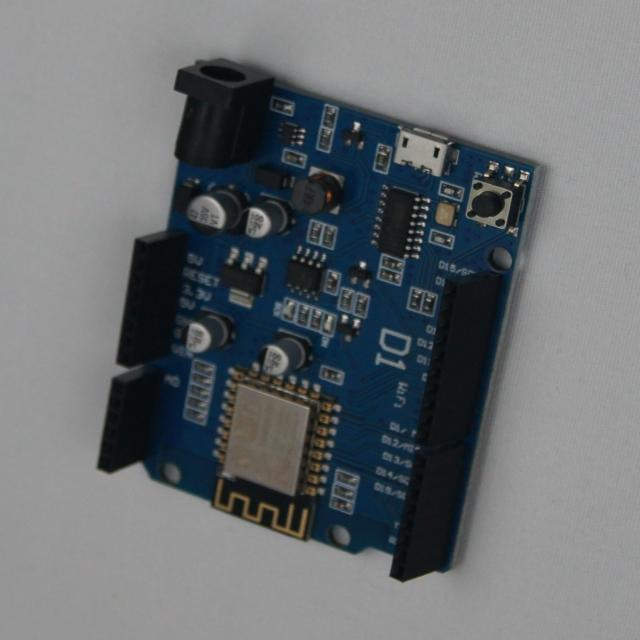Arduino Uno WiFi Shield: (99, 60, 540, 582)
